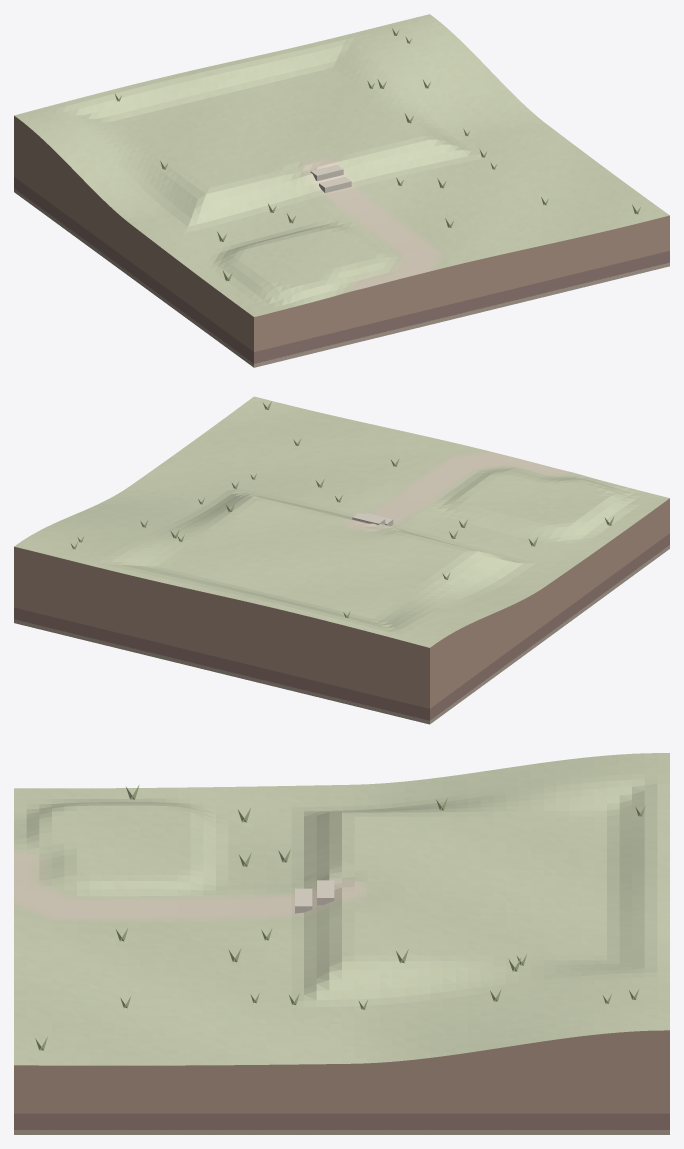
File: J721_proc.glb
3 views of the same model, one above another, from view 1: azimuth 30°, elevation 25°; view 2: azimuth 150°, elevation 25°; view 3: azimuth 270°, elevation 25° (orthographic). The views are drawn at different scales.
Parts seen in each view (by area): view 1: proc_ground, proc_skirt, proc_steps, proc_grass; view 2: proc_ground, proc_skirt, proc_grass; view 3: proc_ground, proc_skirt, proc_grass, proc_steps.
Boxes of the visible parts, x1=… form: proc_ground: x1=14, y1=14, x2=669, y2=316; proc_skirt: x1=14, y1=116, x2=669, y2=367; proc_steps: x1=310, y1=165, x2=351, y2=193; proc_grass: x1=115, y1=28, x2=640, y2=281; proc_ground: x1=14, y1=396, x2=669, y2=647; proc_skirt: x1=14, y1=498, x2=669, y2=724; proc_grass: x1=71, y1=401, x2=614, y2=617; proc_ground: x1=14, y1=753, x2=669, y2=1065; proc_skirt: x1=14, y1=1030, x2=669, y2=1134; proc_grass: x1=35, y1=785, x2=645, y2=1050; proc_steps: x1=295, y1=880, x2=334, y2=913.
Size of the model in its own units: 8 by 1.53 by 8.
